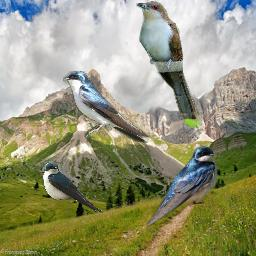Cuckoo: (136, 1, 201, 128)
Swallow: (63, 71, 150, 143), (146, 144, 218, 229), (43, 162, 103, 213)
